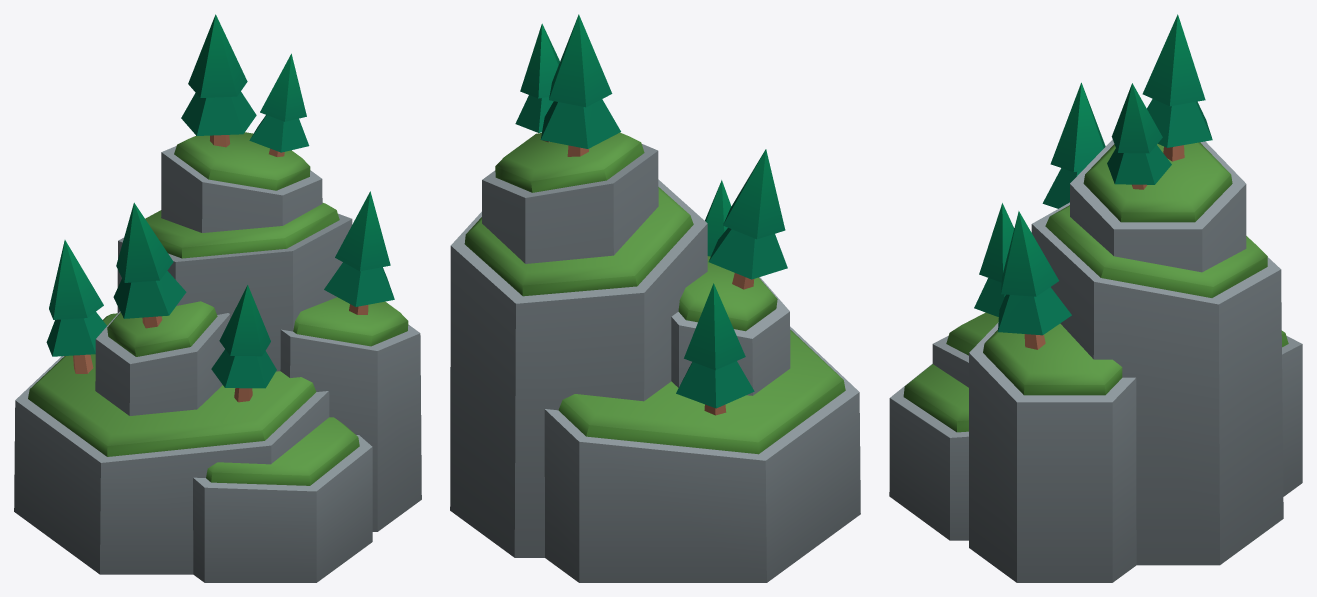
The model's file is alpine_mountain_b.glb.
The picture shows the model from 3 angles, left to right: view 1: azimuth 30°, elevation 25°; view 2: azimuth 150°, elevation 25°; view 3: azimuth 270°, elevation 25°; orthographic projection. The views are drawn at different scales.
Visible parts, largest first — view 1: alpine_mountain_b; view 2: alpine_mountain_b; view 3: alpine_mountain_b.
Boxes of the visible parts, bbox=[...] form: alpine_mountain_b: bbox=[14, 14, 421, 582]; alpine_mountain_b: bbox=[450, 14, 860, 582]; alpine_mountain_b: bbox=[889, 14, 1302, 582].
Size of the model in its own units: 15.82 by 22 by 16.48.
Materials: 1 (1 with a texture image).
